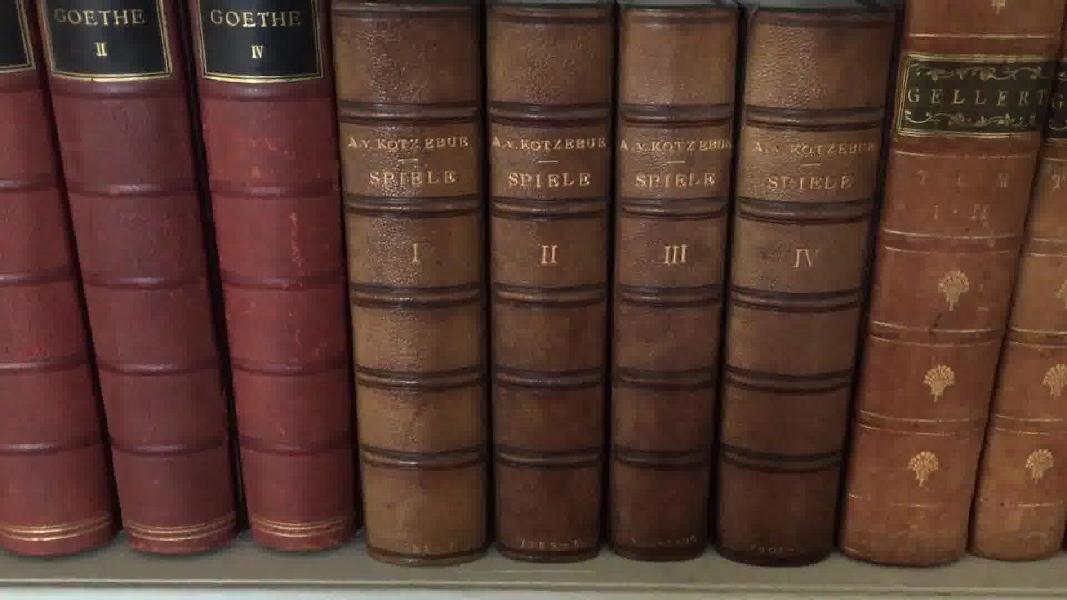Aa6-11_13: (4, 9, 370, 566)
Aa6-14_17: (331, 4, 870, 579)
